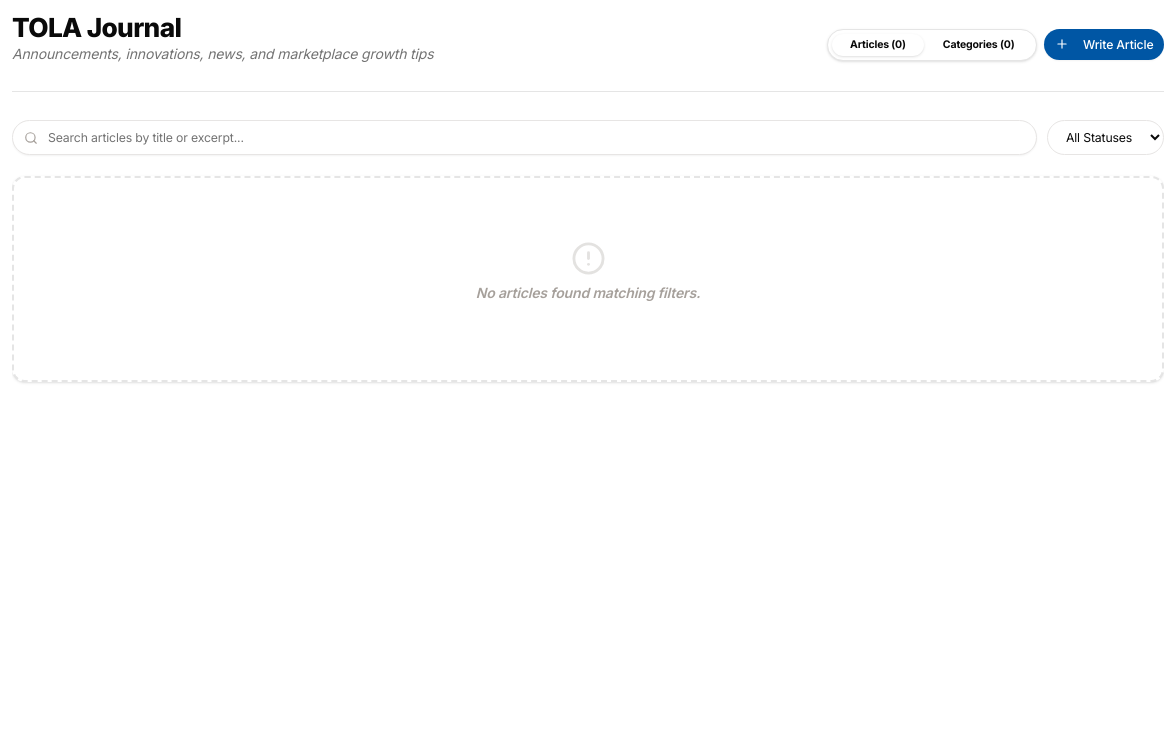
Test: BlogManagementTab › opens the editor for a new article
The image size is (1176, 732).
Click the button "Write Article".
click(1104, 44)  # box [1044,28,1164,60]
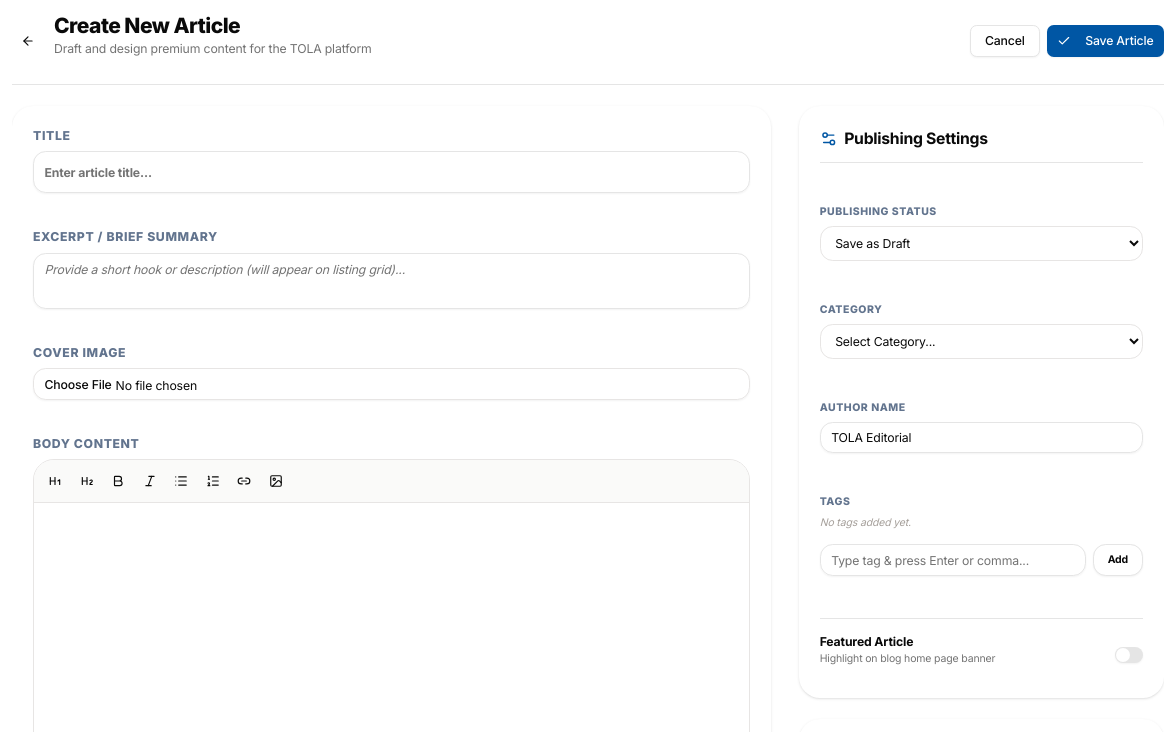
Result: the heading "Create New Article" is shown at [54,13,240,38]
